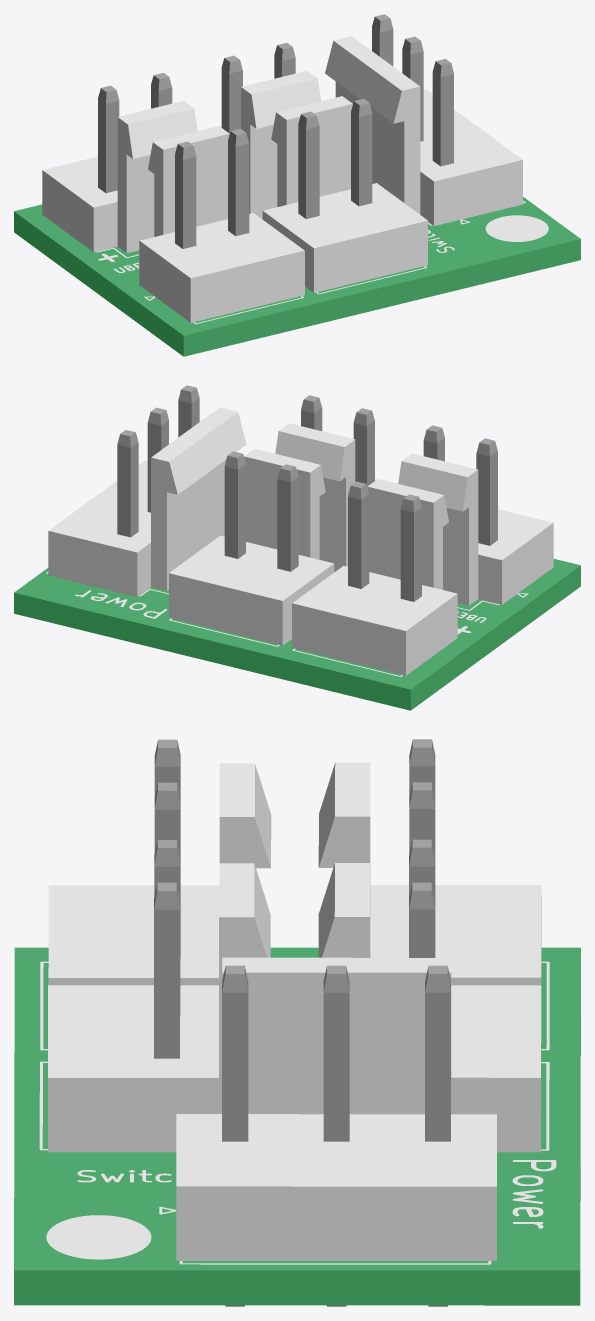
Rendered from pcb3.glb.
3 views of the same model, one above another, from view 1: azimuth 30°, elevation 25°; view 2: azimuth 150°, elevation 25°; view 3: azimuth 270°, elevation 25° (orthographic). The views are drawn at different scales.
Parts seen in each view (by area): view 1: Power distribution_PCB, jstpin4, jstpin3, jstpin5, jstpin1, jstpin2; view 2: Power distribution_PCB, jstpin3, jstpin1, jstpin2, jstpin4, jstpin5; view 3: jstpin3, Power distribution_PCB, jstpin5, jstpin4, jstpin2, jstpin1.
Boxes of the visible parts, <box> form: Power distribution_PCB: <box>14,197,580,356</box>; jstpin4: <box>139,126,304,322</box>; jstpin3: <box>325,14,522,225</box>; jstpin5: <box>262,96,427,292</box>; jstpin1: <box>42,73,197,252</box>; jstpin2: <box>220,43,320,219</box>; Power distribution_PCB: <box>14,559,580,710</box>; jstpin3: <box>48,385,246,596</box>; jstpin1: <box>292,479,457,675</box>; jstpin2: <box>169,449,334,645</box>; jstpin4: <box>398,425,553,605</box>; jstpin5: <box>275,395,376,571</box>; jstpin3: <box>176,957,496,1306</box>; Power distribution_PCB: <box>14,947,580,1305</box>; jstpin5: <box>48,840,270,1152</box>; jstpin4: <box>48,739,271,985</box>; jstpin2: <box>318,839,541,1152</box>; jstpin1: <box>318,739,541,985</box>.
Bounding box in the file's own units: 108 × 51.77 × 79.97.
